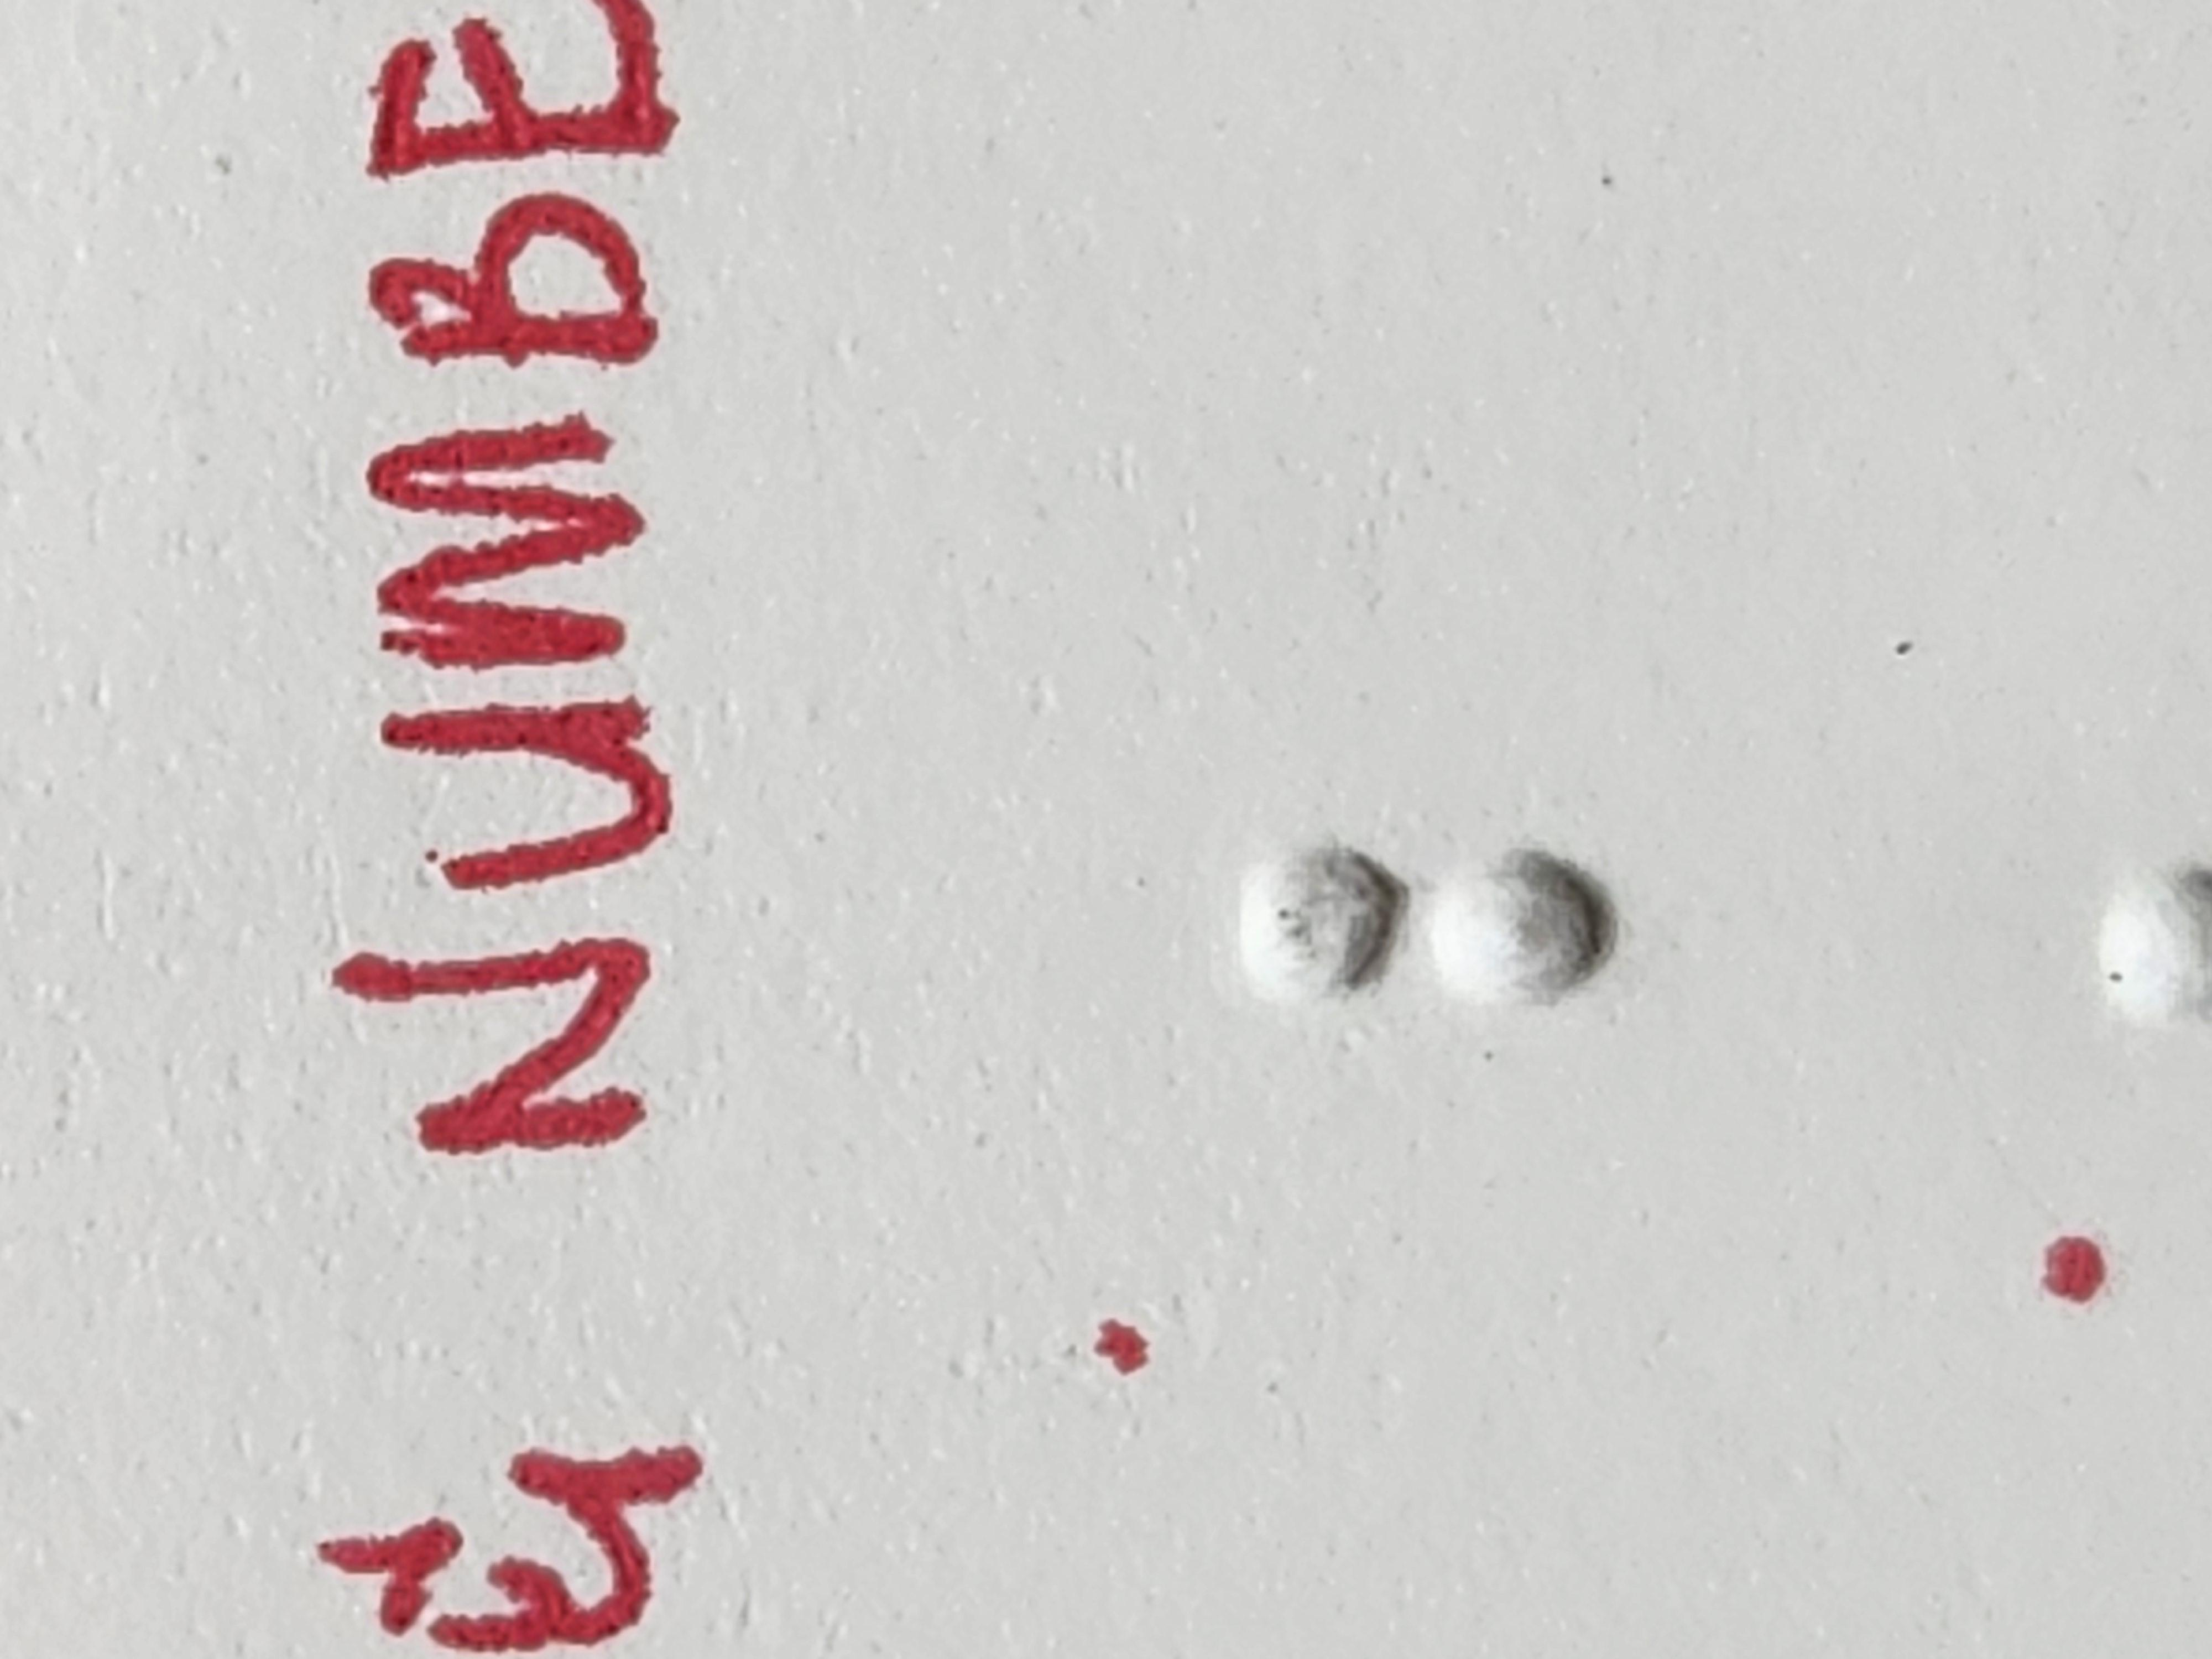letter_b: (880, 922, 1322, 1373)
